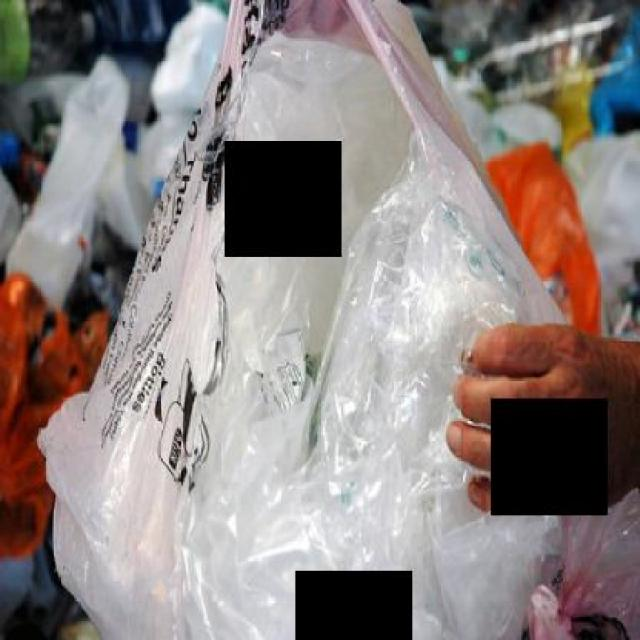plastic bag: (36, 0, 575, 635)
